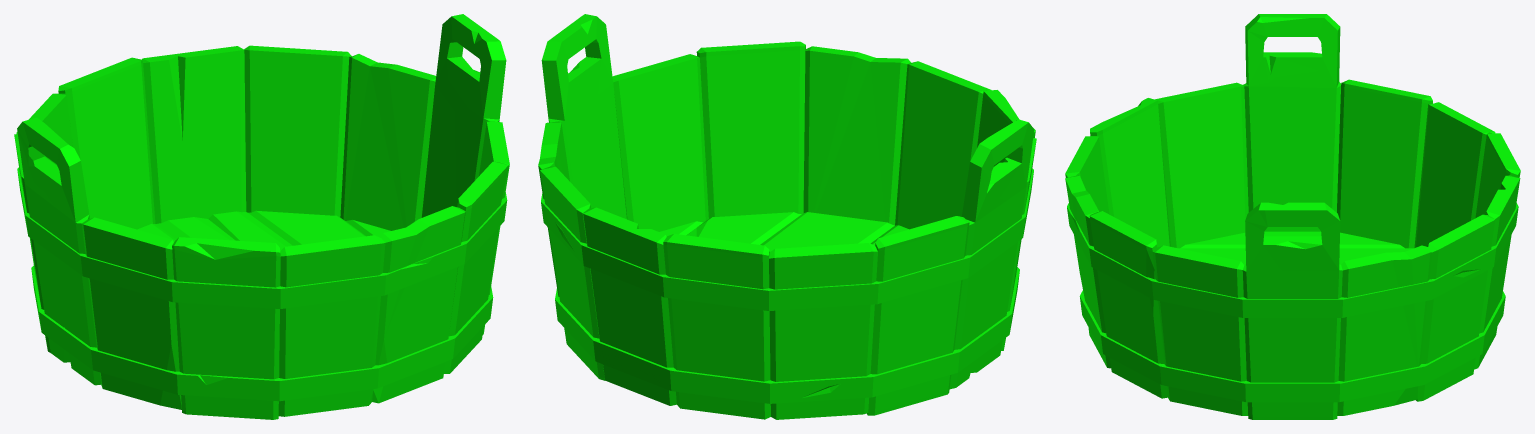
Rendered from SM_Tub_Wooden_B_Fantasy.fbx.
3 views of the same model, side by side, from view 1: azimuth 30°, elevation 25°; view 2: azimuth 150°, elevation 25°; view 3: azimuth 270°, elevation 25° (orthographic). The views are drawn at different scales.
Visible parts, largest first — view 1: tub-wooden-b-fantasy; view 2: tub-wooden-b-fantasy; view 3: tub-wooden-b-fantasy.
Boxes of the visible parts, left/top/right/bottom form: tub-wooden-b-fantasy: left=14, top=14, right=509, bottom=419; tub-wooden-b-fantasy: left=538, top=14, right=1036, bottom=419; tub-wooden-b-fantasy: left=1065, top=14, right=1520, bottom=419.
Bounding box in the file's own units: 1.25 × 0.6701 × 1.23.
